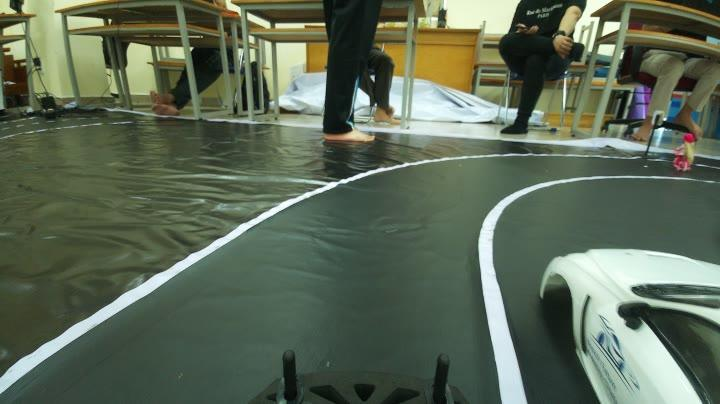car: (523, 221, 720, 404)
